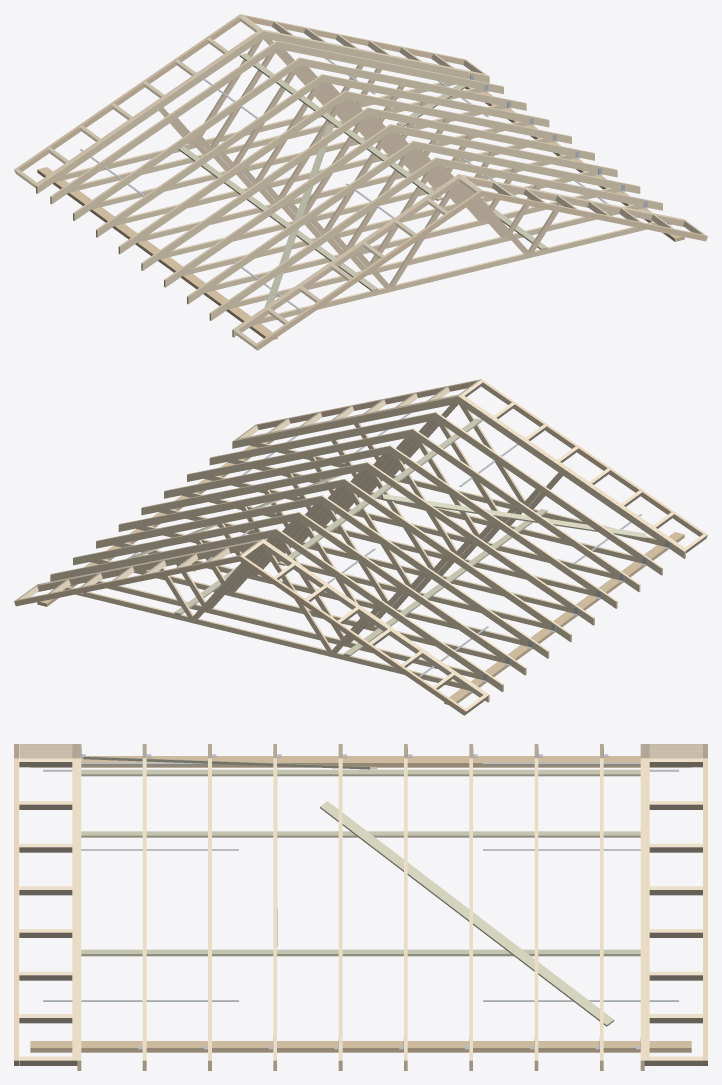
Rendered from stage-3.glb.
3 views of the same model, one above another, from view 1: azimuth 30°, elevation 25°; view 2: azimuth 150°, elevation 25°; view 3: azimuth 270°, elevation 25° (orthographic). The views are drawn at different scales.
Visible parts, largest first — view 1: Geom3D_TC01 truss chord 35 x 97 TR26 L3739, Geom3D_TW04 truss web 35 x 72 TR26 L874, Geom3D_BG76 barge 47 x 72 C24 L3739, Geom3D_LR77 ladder rail 47 x 72 C24 L3739, Geom3D_BN71 binder 22 x 97 C16 L5210, Geom3D_OR78 outrigger 47 x 72 C24 L488, Geom3D, Geom3D_TCP38 clip; view 2: Geom3D_TC01 truss chord 35 x 97 TR26 L3739, Geom3D_TW04 truss web 35 x 72 TR26 L874, Geom3D_BG76 barge 47 x 72 C24 L3739, Geom3D_BN71 binder 22 x 97 C16 L5210, Geom3D_LR77 ladder rail 47 x 72 C24 L3739, Geom3D_OR78 outrigger 47 x 72 C24 L488, Geom3D, Geom3D_TCP38 clip; view 3: Geom3D_BN71 binder 22 x 97 C16 L5210, Geom3D_TC01 truss chord 35 x 97 TR26 L3739, Geom3D, Geom3D_OR78 outrigger 47 x 72 C24 L488, Geom3D_LR77 ladder rail 47 x 72 C24 L3739, Geom3D_BG76 barge 47 x 72 C24 L3739, Geom3D_TCP38 clip.
Part boxes in pixels (<box>): Geom3D_TC01 truss chord 35 x 97 TR26 L3739: <box>36,30,684,337</box>; Geom3D_TW04 truss web 35 x 72 TR26 L874: <box>159,38,562,288</box>; Geom3D_BG76 barge 47 x 72 C24 L3739: <box>14,14,707,350</box>; Geom3D_LR77 ladder rail 47 x 72 C24 L3739: <box>34,29,686,335</box>; Geom3D_BN71 binder 22 x 97 C16 L5210: <box>178,53,547,307</box>; Geom3D_OR78 outrigger 47 x 72 C24 L488: <box>16,15,705,349</box>; Geom3D: <box>37,87,684,339</box>; Geom3D_TCP38 clip: <box>79,58,671,311</box>; Geom3D_TC01 truss chord 35 x 97 TR26 L3739: <box>37,395,685,702</box>; Geom3D_TW04 truss web 35 x 72 TR26 L874: <box>159,403,562,653</box>; Geom3D_BG76 barge 47 x 72 C24 L3739: <box>14,379,707,715</box>; Geom3D_BN71 binder 22 x 97 C16 L5210: <box>127,418,646,656</box>; Geom3D_LR77 ladder rail 47 x 72 C24 L3739: <box>35,394,687,700</box>; Geom3D_OR78 outrigger 47 x 72 C24 L488: <box>16,380,705,714</box>; Geom3D: <box>37,440,684,704</box>; Geom3D_TCP38 clip: <box>80,413,668,692</box>; Geom3D_BN71 binder 22 x 97 C16 L5210: <box>81,756,640,1026</box>; Geom3D_TC01 truss chord 35 x 97 TR26 L3739: <box>77,744,644,1070</box>; Geom3D: <box>30,756,691,1052</box>; Geom3D_OR78 outrigger 47 x 72 C24 L488: <box>19,744,702,1065</box>; Geom3D_LR77 ladder rail 47 x 72 C24 L3739: <box>72,744,649,1065</box>; Geom3D_BG76 barge 47 x 72 C24 L3739: <box>14,744,707,1065</box>; Geom3D_TCP38 clip: <box>43,746,678,1049</box>.
Bounding box in the file's own units: 6.88 × 1.57 × 6.38.
